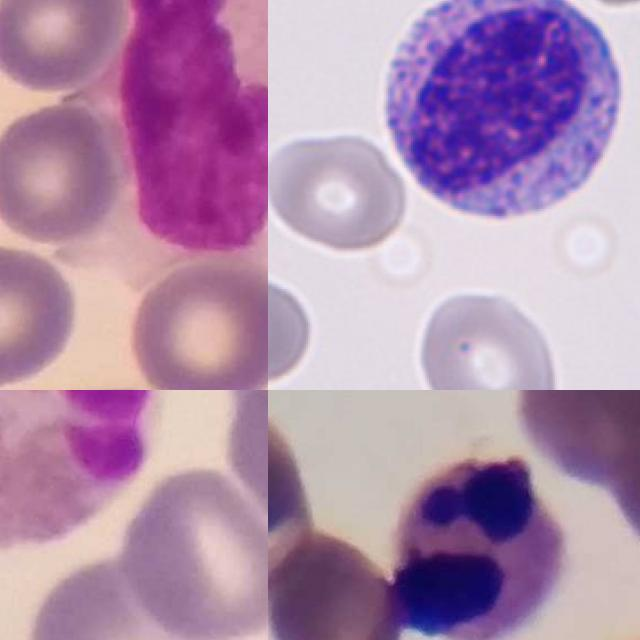Eosinophil: (385, 0, 623, 210), (0, 390, 158, 555)
Monocyte: (100, 0, 268, 282)
Neutrophil: (392, 457, 562, 640)
RBC: (268, 125, 411, 255), (268, 257, 318, 387)
